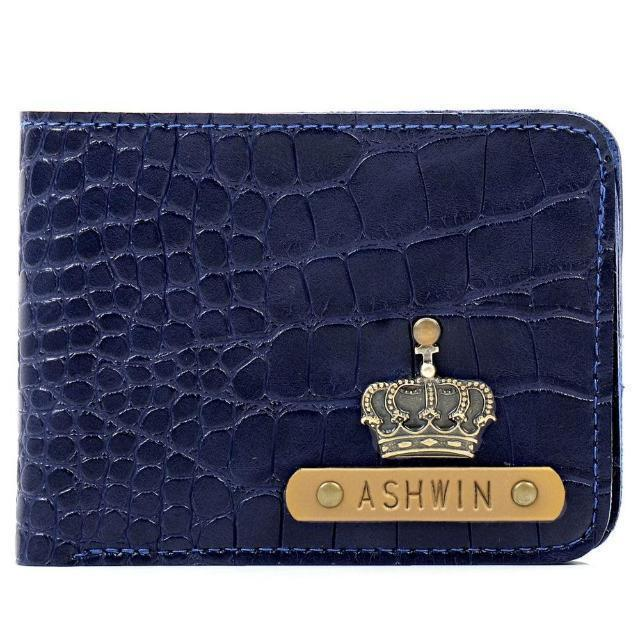wallet: (14, 102, 628, 568)
